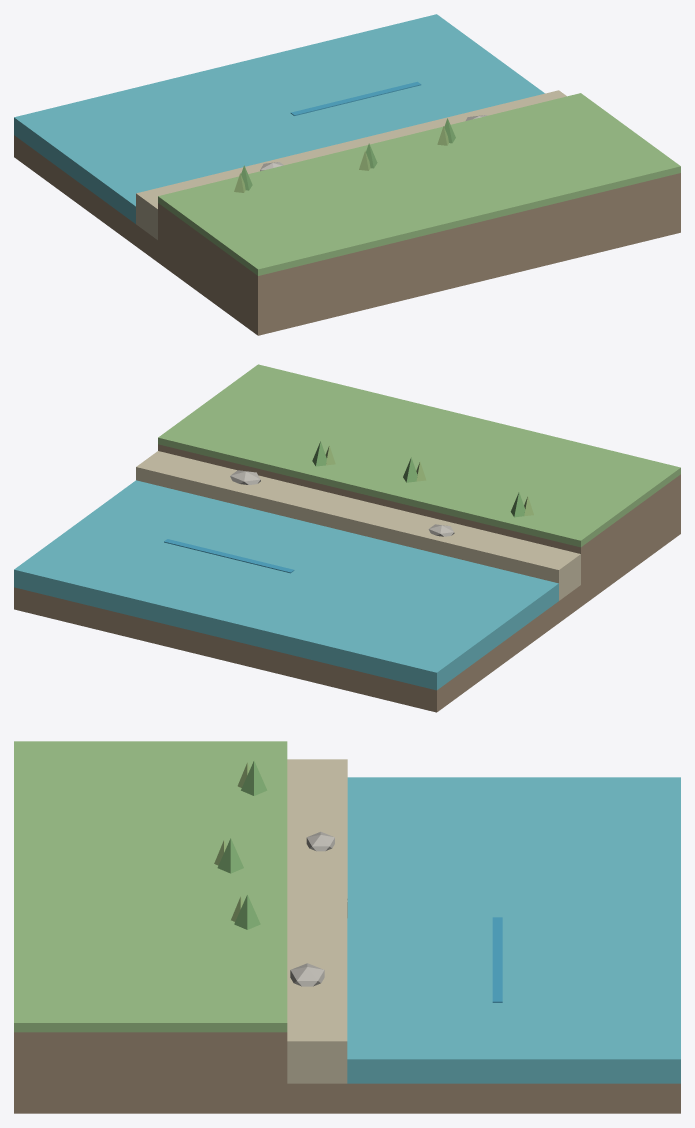
File: terreno__margem_reta.glb
3 renders of one model, top to bottom at view 1: azimuth 30°, elevation 25°; view 2: azimuth 150°, elevation 25°; view 3: azimuth 270°, elevation 25°, orthographic. The views are drawn at different scales.
Visible parts, largest first — view 1: terreno__margem_reta; view 2: terreno__margem_reta; view 3: terreno__margem_reta.
Boxes of the visible parts, box(x1,y1,x2,y2) form: terreno__margem_reta: box(14, 14, 680, 335); terreno__margem_reta: box(14, 364, 680, 712); terreno__margem_reta: box(14, 741, 680, 1113).
Size of the model in its own units: 2 by 0.4 by 2.
